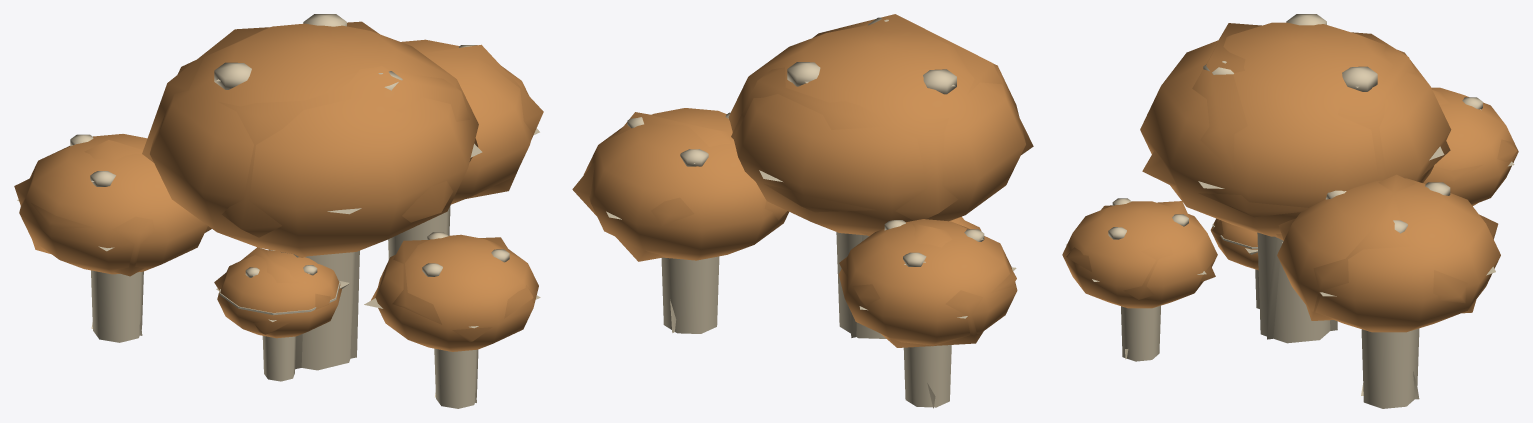
The model's file is mushrooms.glb.
3 renders of one model, left to right at view 1: azimuth 30°, elevation 25°; view 2: azimuth 150°, elevation 25°; view 3: azimuth 270°, elevation 25°, orthographic. The views are drawn at different scales.
Visible parts, largest first — view 1: body, body__far; view 2: body, body__far; view 3: body, body__far.
Boxes of the visible parts, box(x1,y1,x2,y2) form: body: box(19, 14, 538, 408); body__far: box(14, 21, 543, 402); body: box(583, 17, 1025, 407); body__far: box(572, 14, 1033, 408); body: box(1062, 14, 1518, 408); body__far: box(1066, 23, 1517, 399).
Bounding box in the file's own units: 0.9566 × 0.607 × 0.88.
